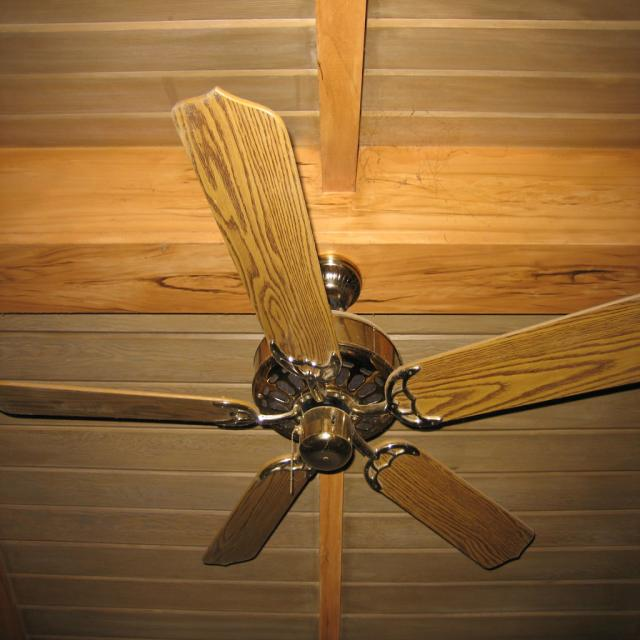Bulb: (0, 84, 640, 569)
